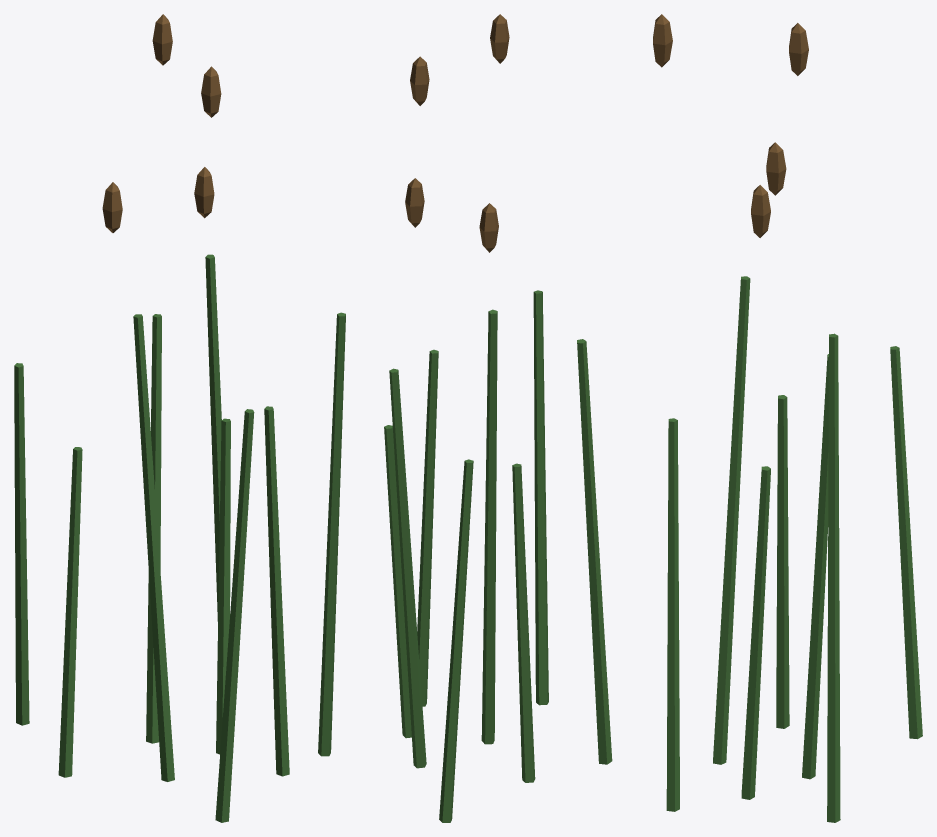
File: reeds.glb
The picture shows the model from 3 angles, left to right: view 1: azimuth 30°, elevation 25°; view 2: azimuth 150°, elevation 25°; view 3: azimuth 270°, elevation 25°; orthographic projection. The views are drawn at different scales.
Visible parts, largest first — view 1: Reed3, Reed2, Reed1, Reed5, Reed4, Reed0, Reed6, Reed7, Tip6, Tip4, Tip0, Tip2; view 2: Reed7, Reed3, Reed2, Reed6, Reed5, Reed1, Reed4, Reed0, Tip0, Tip6, Tip2, Tip4; view 3: Reed3, Reed7, Reed2, Reed5, Reed1, Reed6, Reed0, Reed4, Tip4, Tip2, Tip6, Tip0.
Part boxes in pixels (box(x1,y1,x2,y2)): Reed3: box(133, 314, 174, 781); Reed2: box(215, 409, 254, 822); Reed1: box(264, 406, 289, 776); Reed5: box(14, 363, 29, 725); Reed4: box(58, 447, 82, 777); Reed0: box(216, 418, 230, 754); Reed6: box(146, 314, 161, 743); Reed7: box(205, 254, 230, 621); Tip6: box(152, 14, 172, 65); Tip4: box(102, 182, 122, 232); Tip0: box(194, 167, 214, 218); Tip2: box(201, 66, 221, 117); Reed7: box(318, 312, 345, 756); Reed3: box(481, 309, 497, 744); Reed2: box(533, 290, 548, 705); Reed6: box(389, 368, 426, 768); Reed5: box(439, 459, 473, 822); Reed1: box(417, 349, 438, 706); Reed4: box(512, 463, 535, 782); Reed0: box(384, 425, 411, 738); Tip0: box(405, 178, 424, 227); Tip6: box(410, 56, 429, 105); Tip2: box(490, 14, 509, 63); Tip4: box(479, 203, 498, 252); Reed3: box(713, 276, 750, 764); Reed7: box(827, 333, 840, 822); Reed2: box(577, 339, 612, 764); Reed5: box(890, 346, 922, 739); Reed1: box(666, 418, 679, 811); Reed6: box(802, 354, 828, 779); Reed0: box(741, 466, 770, 799); Reed4: box(776, 395, 789, 728); Tip4: box(766, 142, 786, 195); Tip2: box(653, 14, 672, 67); Tip6: box(789, 23, 808, 75); Tip0: box(751, 185, 770, 237).
Bounding box in the file's own units: 0.6424 × 2.26 × 0.9347.
